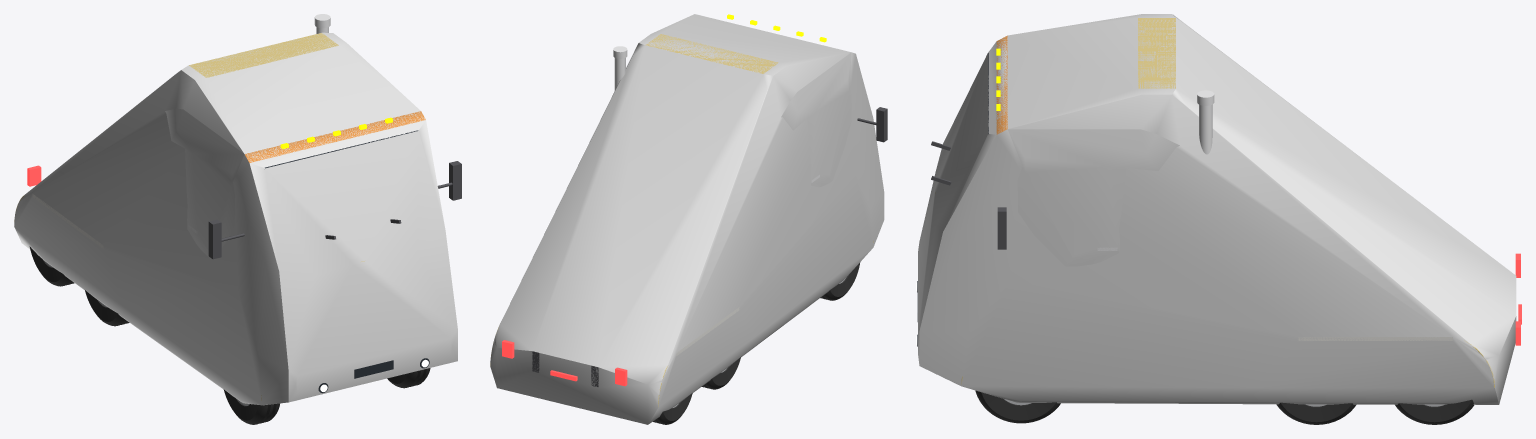
Rendered from ARO-TITAN-480.glb.
3 views of the same model, side by side, from view 1: azimuth 30°, elevation 25°; view 2: azimuth 150°, elevation 25°; view 3: azimuth 270°, elevation 25° (orthographic). The views are drawn at different scales.
Visible parts, largest first — view 1: COL_Body, COL_Cabin, Cab_Roof_Accent_LOD0, Cab_Shell_LOD0, Tire_F_R_LOD0, Mirror_R_LOD0, Tire_R2_RO_LOD0, Tire_R1_RO_LOD0, Mirror_L_LOD0, Tire_F_L_LOD0; view 2: COL_Body, COL_Cabin, Cab_Roof_Accent_LOD0, Tire_F_R_LOD0, Mirror_R_LOD0, Tire_R2_RO_LOD0, Exhaust_Stack_LOD0, Tire_R1_RO_LOD0; view 3: COL_Body, COL_Cabin, Cab_Roof_Accent_LOD0, Tire_F_L_LOD0, Tire_R2_LO_LOD0, Tire_R1_LO_LOD0, Exhaust_Stack_LOD0, Cab_Shell_LOD0, Fender_L_LOD0.
Boxes of the visible parts, left/top/right/bottom form: COL_Body: left=14, top=32, right=457, bottom=405; COL_Cabin: left=165, top=108, right=424, bottom=259; Cab_Roof_Accent_LOD0: left=189, top=33, right=338, bottom=77; Cab_Shell_LOD0: left=245, top=111, right=425, bottom=162; Tire_F_R_LOD0: left=223, top=389, right=280, bottom=424; Mirror_R_LOD0: left=208, top=219, right=244, bottom=259; Tire_R2_RO_LOD0: left=29, top=246, right=74, bottom=286; Tire_R1_RO_LOD0: left=85, top=290, right=129, bottom=326; Mirror_L_LOD0: left=437, top=161, right=461, bottom=200; Tire_F_L_LOD0: left=387, top=368, right=430, bottom=388; COL_Body: left=490, top=14, right=884, bottom=424; COL_Cabin: left=781, top=52, right=851, bottom=187; Cab_Roof_Accent_LOD0: left=645, top=34, right=778, bottom=73; Tire_F_R_LOD0: left=820, top=262, right=860, bottom=300; Mirror_R_LOD0: left=857, top=107, right=887, bottom=142; Tire_R2_RO_LOD0: left=653, top=393, right=692, bottom=424; Exhaust_Stack_LOD0: left=613, top=46, right=627, bottom=90; Tire_R1_RO_LOD0: left=702, top=357, right=740, bottom=389; COL_Body: left=918, top=14, right=1516, bottom=404; COL_Cabin: left=996, top=37, right=1179, bottom=266; Cab_Roof_Accent_LOD0: left=1138, top=18, right=1175, bottom=88; Tire_F_L_LOD0: left=975, top=390, right=1060, bottom=423; Tire_R2_LO_LOD0: left=1395, top=399, right=1474, bottom=424; Tire_R1_LO_LOD0: left=1276, top=402, right=1356, bottom=424; Exhaust_Stack_LOD0: left=1197, top=90, right=1214, bottom=154; Cab_Shell_LOD0: left=996, top=35, right=1007, bottom=134; Fender_L_LOD0: left=1298, top=337, right=1452, bottom=340.
Size of what is drawn, in the model's own units: 3.44 by 4 by 6.67.
